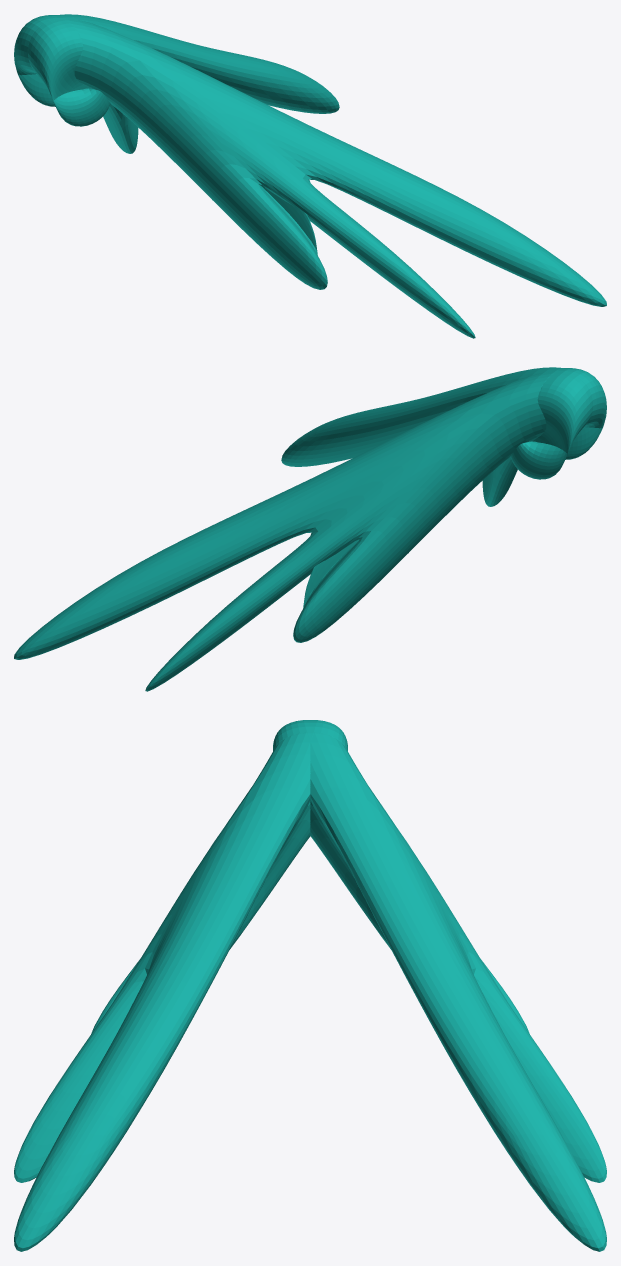
Rendered from Creaturestruc5.obj.
3 views of the same model, one above another, from view 1: azimuth 30°, elevation 25°; view 2: azimuth 150°, elevation 25°; view 3: azimuth 270°, elevation 25° (orthographic). The views are drawn at different scales.
Visible parts, largest first — view 1: Cube_Cube.006; view 2: Cube_Cube.006; view 3: Cube_Cube.006.
Boxes of the visible parts, x1,y1,x2,y2 form: Cube_Cube.006: (14,14,606,338); Cube_Cube.006: (14,367,606,691); Cube_Cube.006: (14,720,606,1251).
Bounding box in the file's own units: 14.9 × 9.25 × 16.05.
